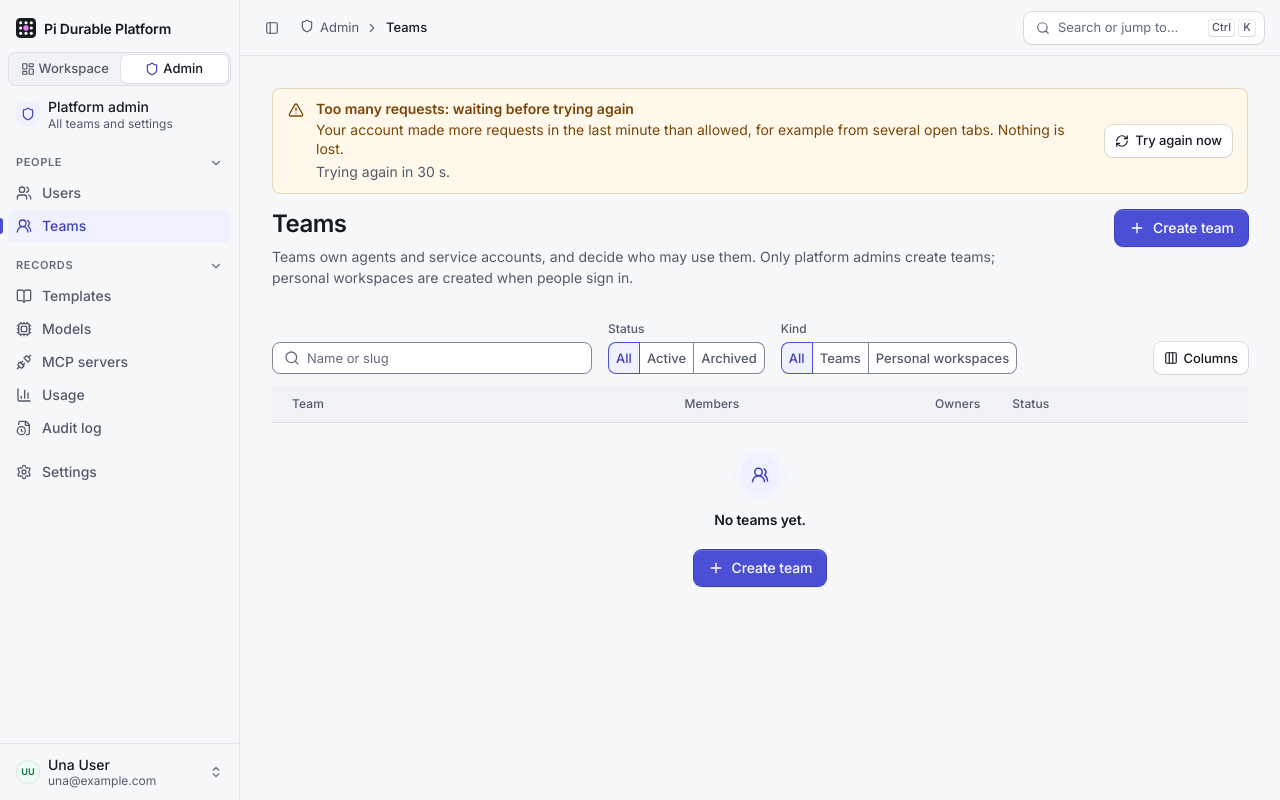
Scenario: the rate-limit banner › says the account is rate-limited, counts down and tries again now on request
This screenshot has width=1280, height=800.
Expected: the heading "Teams" is shown, [272,210,347,238]
Expected: the text "Too many requests: waiting before trying again" is shown, [316,100,634,117]
Click the button "Try again now": click(1169, 141) [1105,125,1232,157]
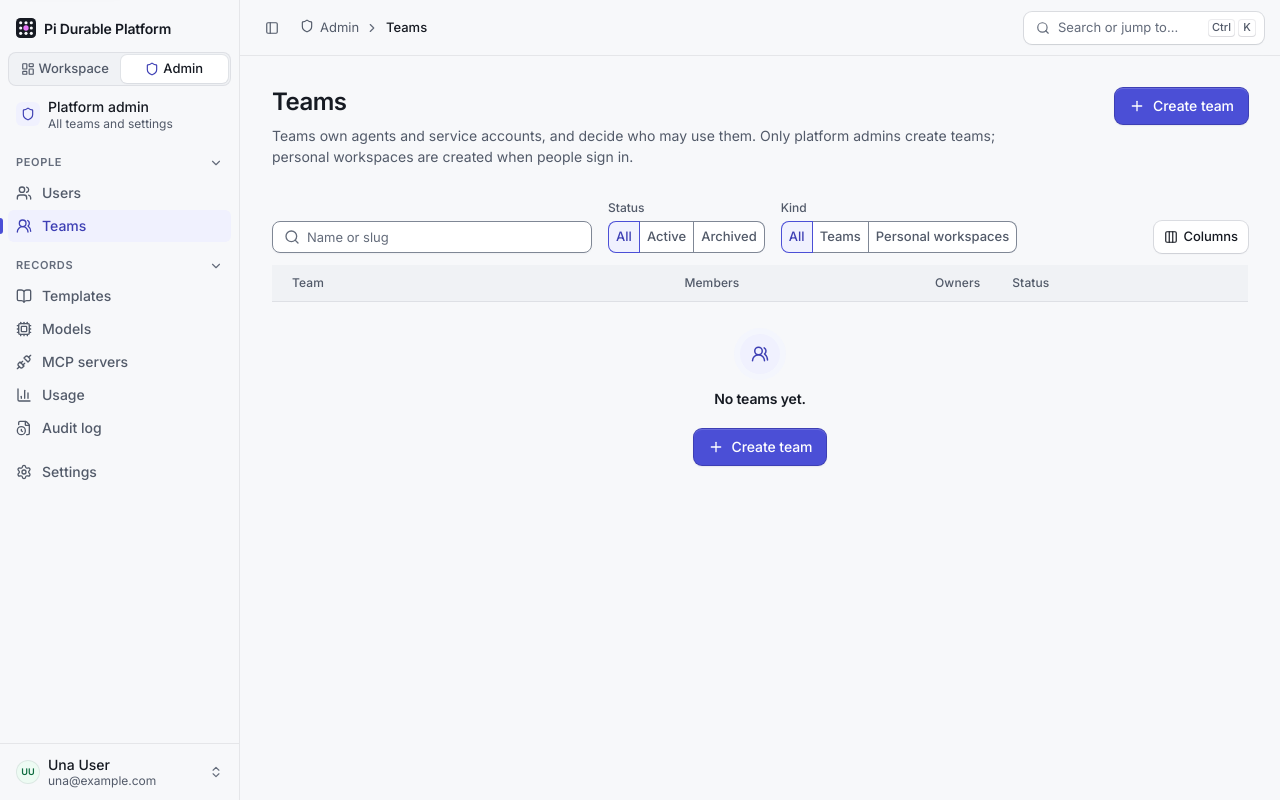
Expected: the text "Too many requests" is gone
